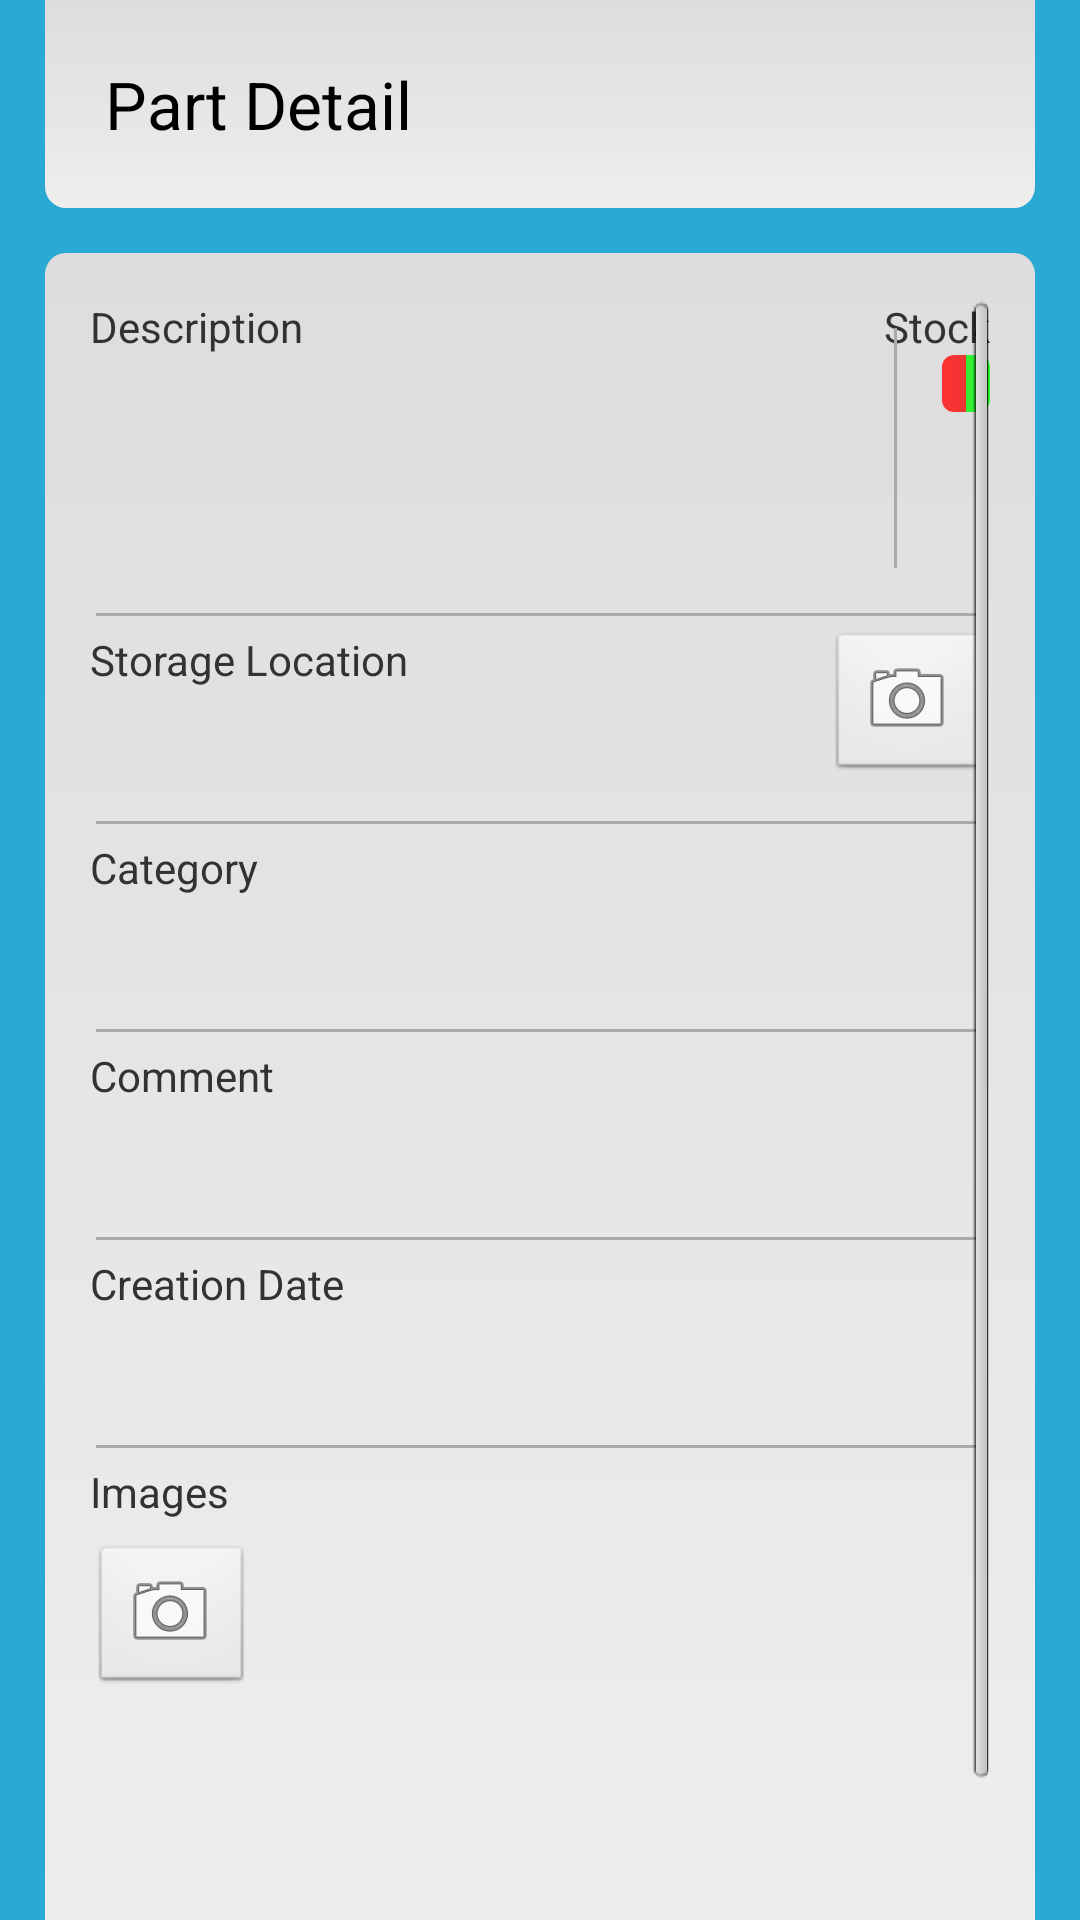

Locate icon controls on the screen. Image size 1080px x 1920px, boxes as [x1,y1,x2,y2].
Button to activate image chooser: [99,1551,244,1681]
camera: [835,631,989,782]
